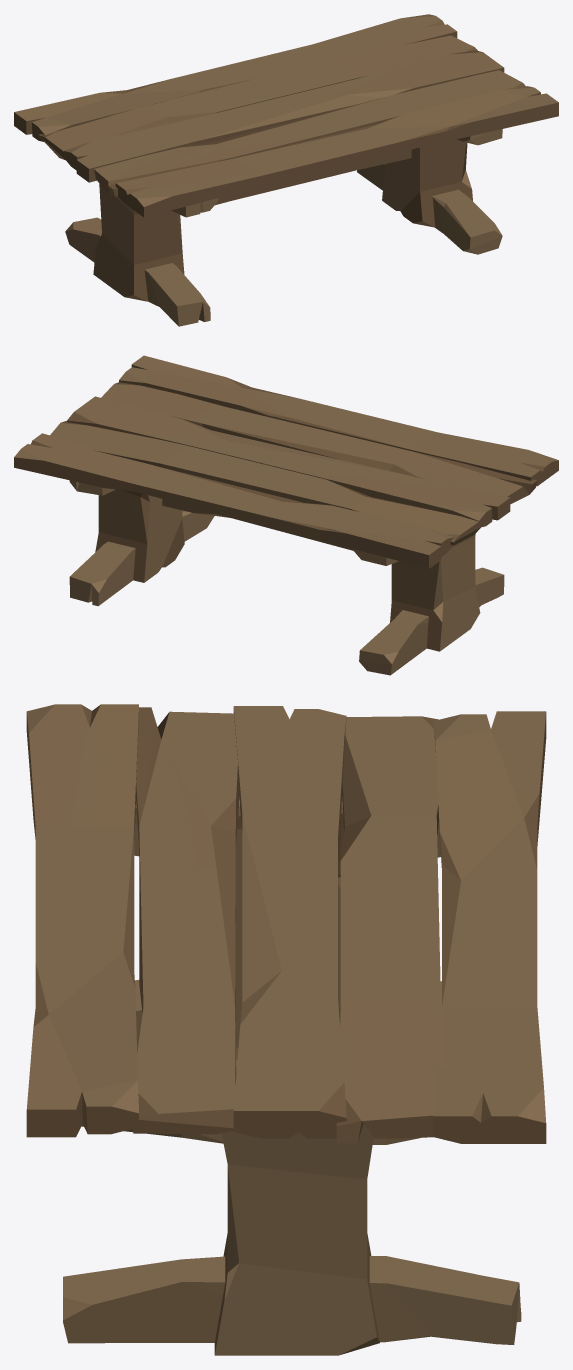
File: castle_table.gltf
3 renders of one model, top to bottom at view 1: azimuth 30°, elevation 25°; view 2: azimuth 150°, elevation 25°; view 3: azimuth 270°, elevation 25°, orthographic. The views are drawn at different scales.
Parts seen in each view (by area): view 1: castle_table; view 2: castle_table; view 3: castle_table.
Boxes of the visible parts, left/top/right/bottom form: castle_table: left=14, top=14, right=558, bottom=326; castle_table: left=14, top=355, right=558, bottom=675; castle_table: left=26, top=704, right=546, bottom=1355.
Bounding box in the file's own units: 2.95 × 0.9453 × 1.58.
Materials: 1 (1 with a texture image).
